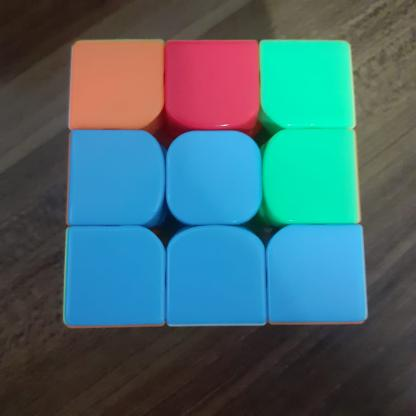cube: (57, 32, 374, 334)
